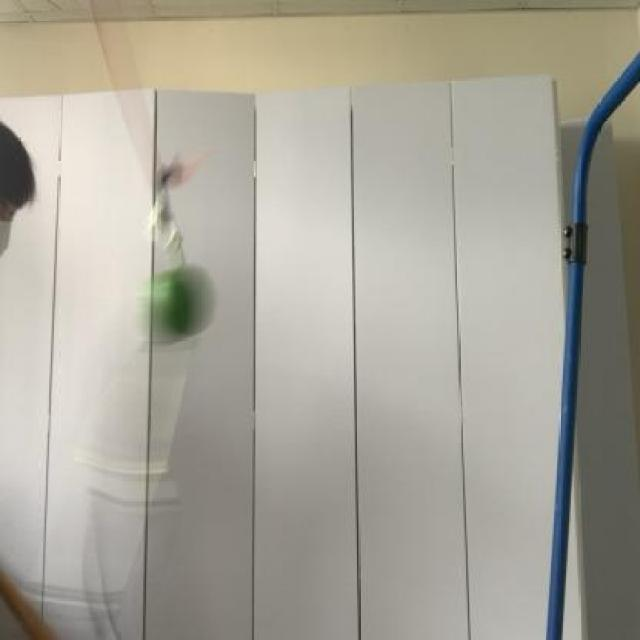baseball: (118, 261, 224, 370)
